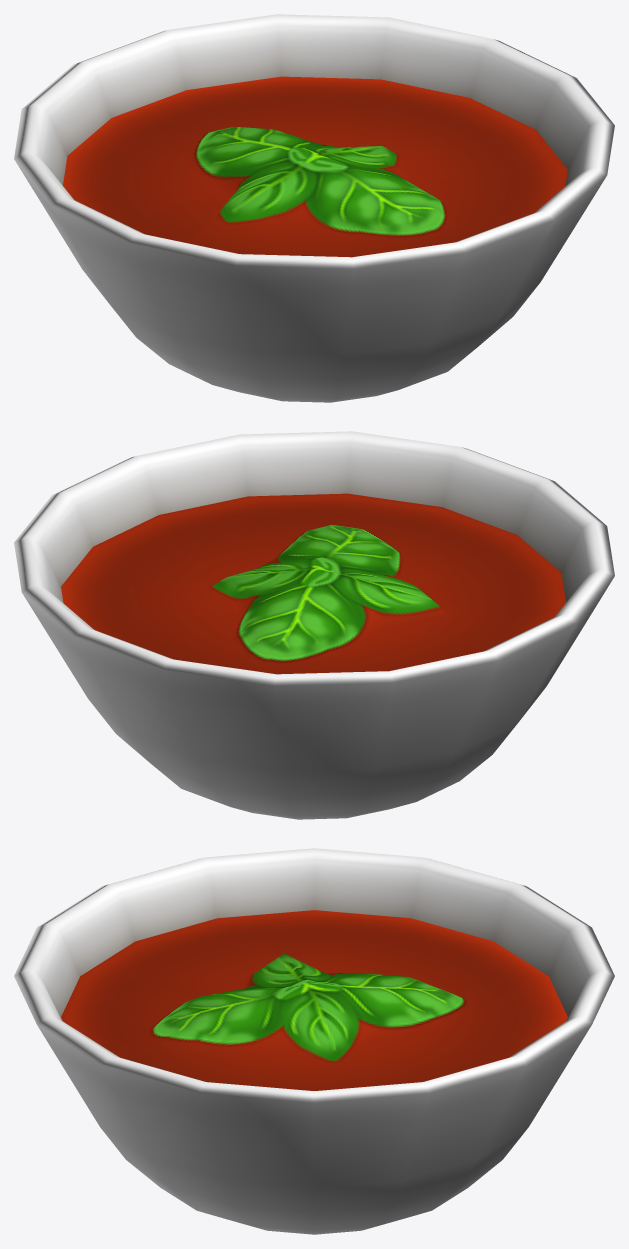
The model's file is 011-Soup_05.FBX.
The picture shows the model from 3 angles, top to bottom: view 1: azimuth 30°, elevation 25°; view 2: azimuth 150°, elevation 25°; view 3: azimuth 270°, elevation 25°; orthographic projection.
Parts seen in each view (by area): view 1: 011-Soup_05; view 2: 011-Soup_05; view 3: 011-Soup_05.
Part boxes in pixels (x1,y1,x2,y2): 011-Soup_05: (14,14,614,402); 011-Soup_05: (14,431,614,819); 011-Soup_05: (14,848,614,1234).
Bounding box in the file's own units: 21.83 × 8.53 × 21.83.
